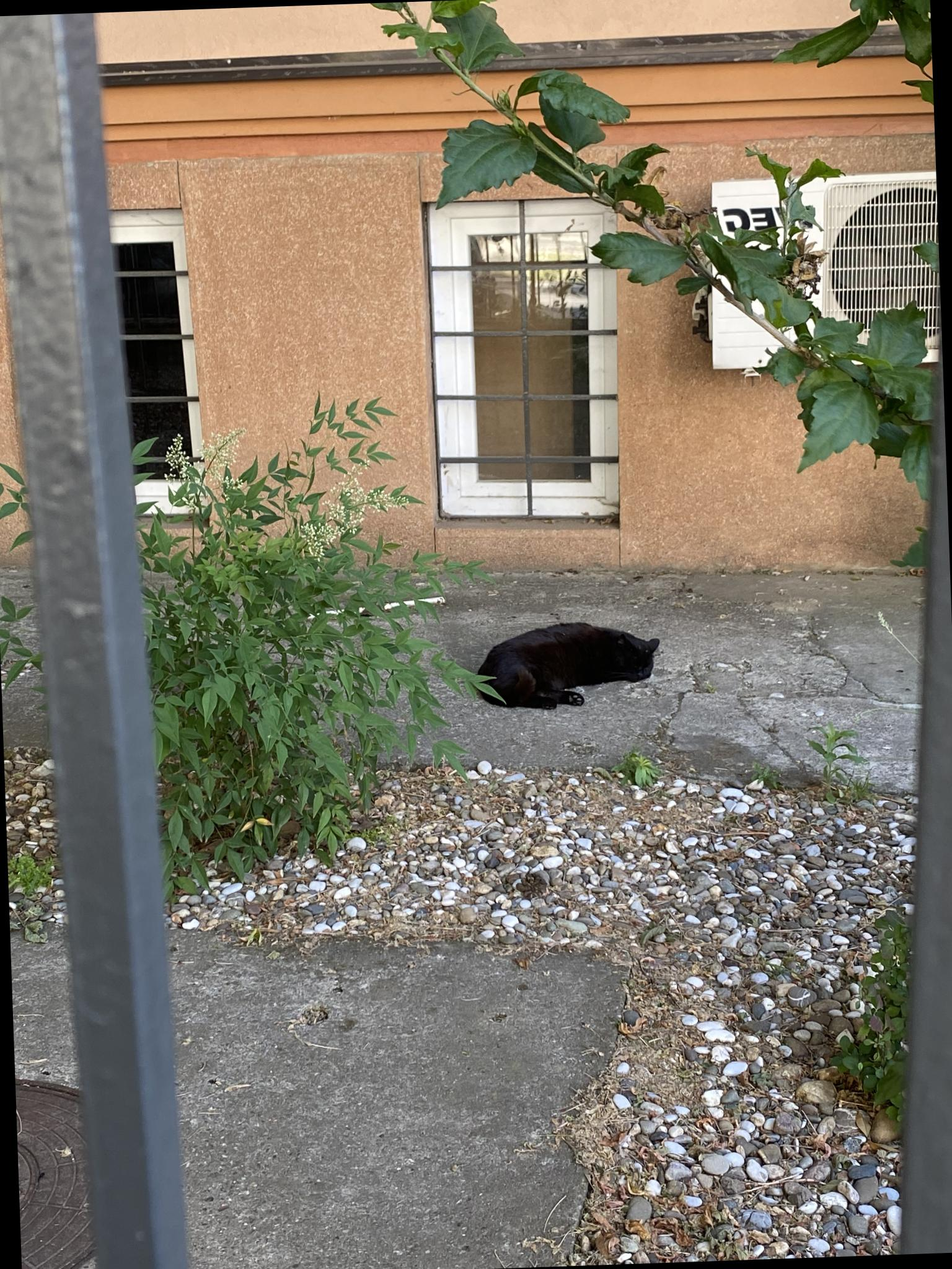macka: (476, 619, 662, 712)
